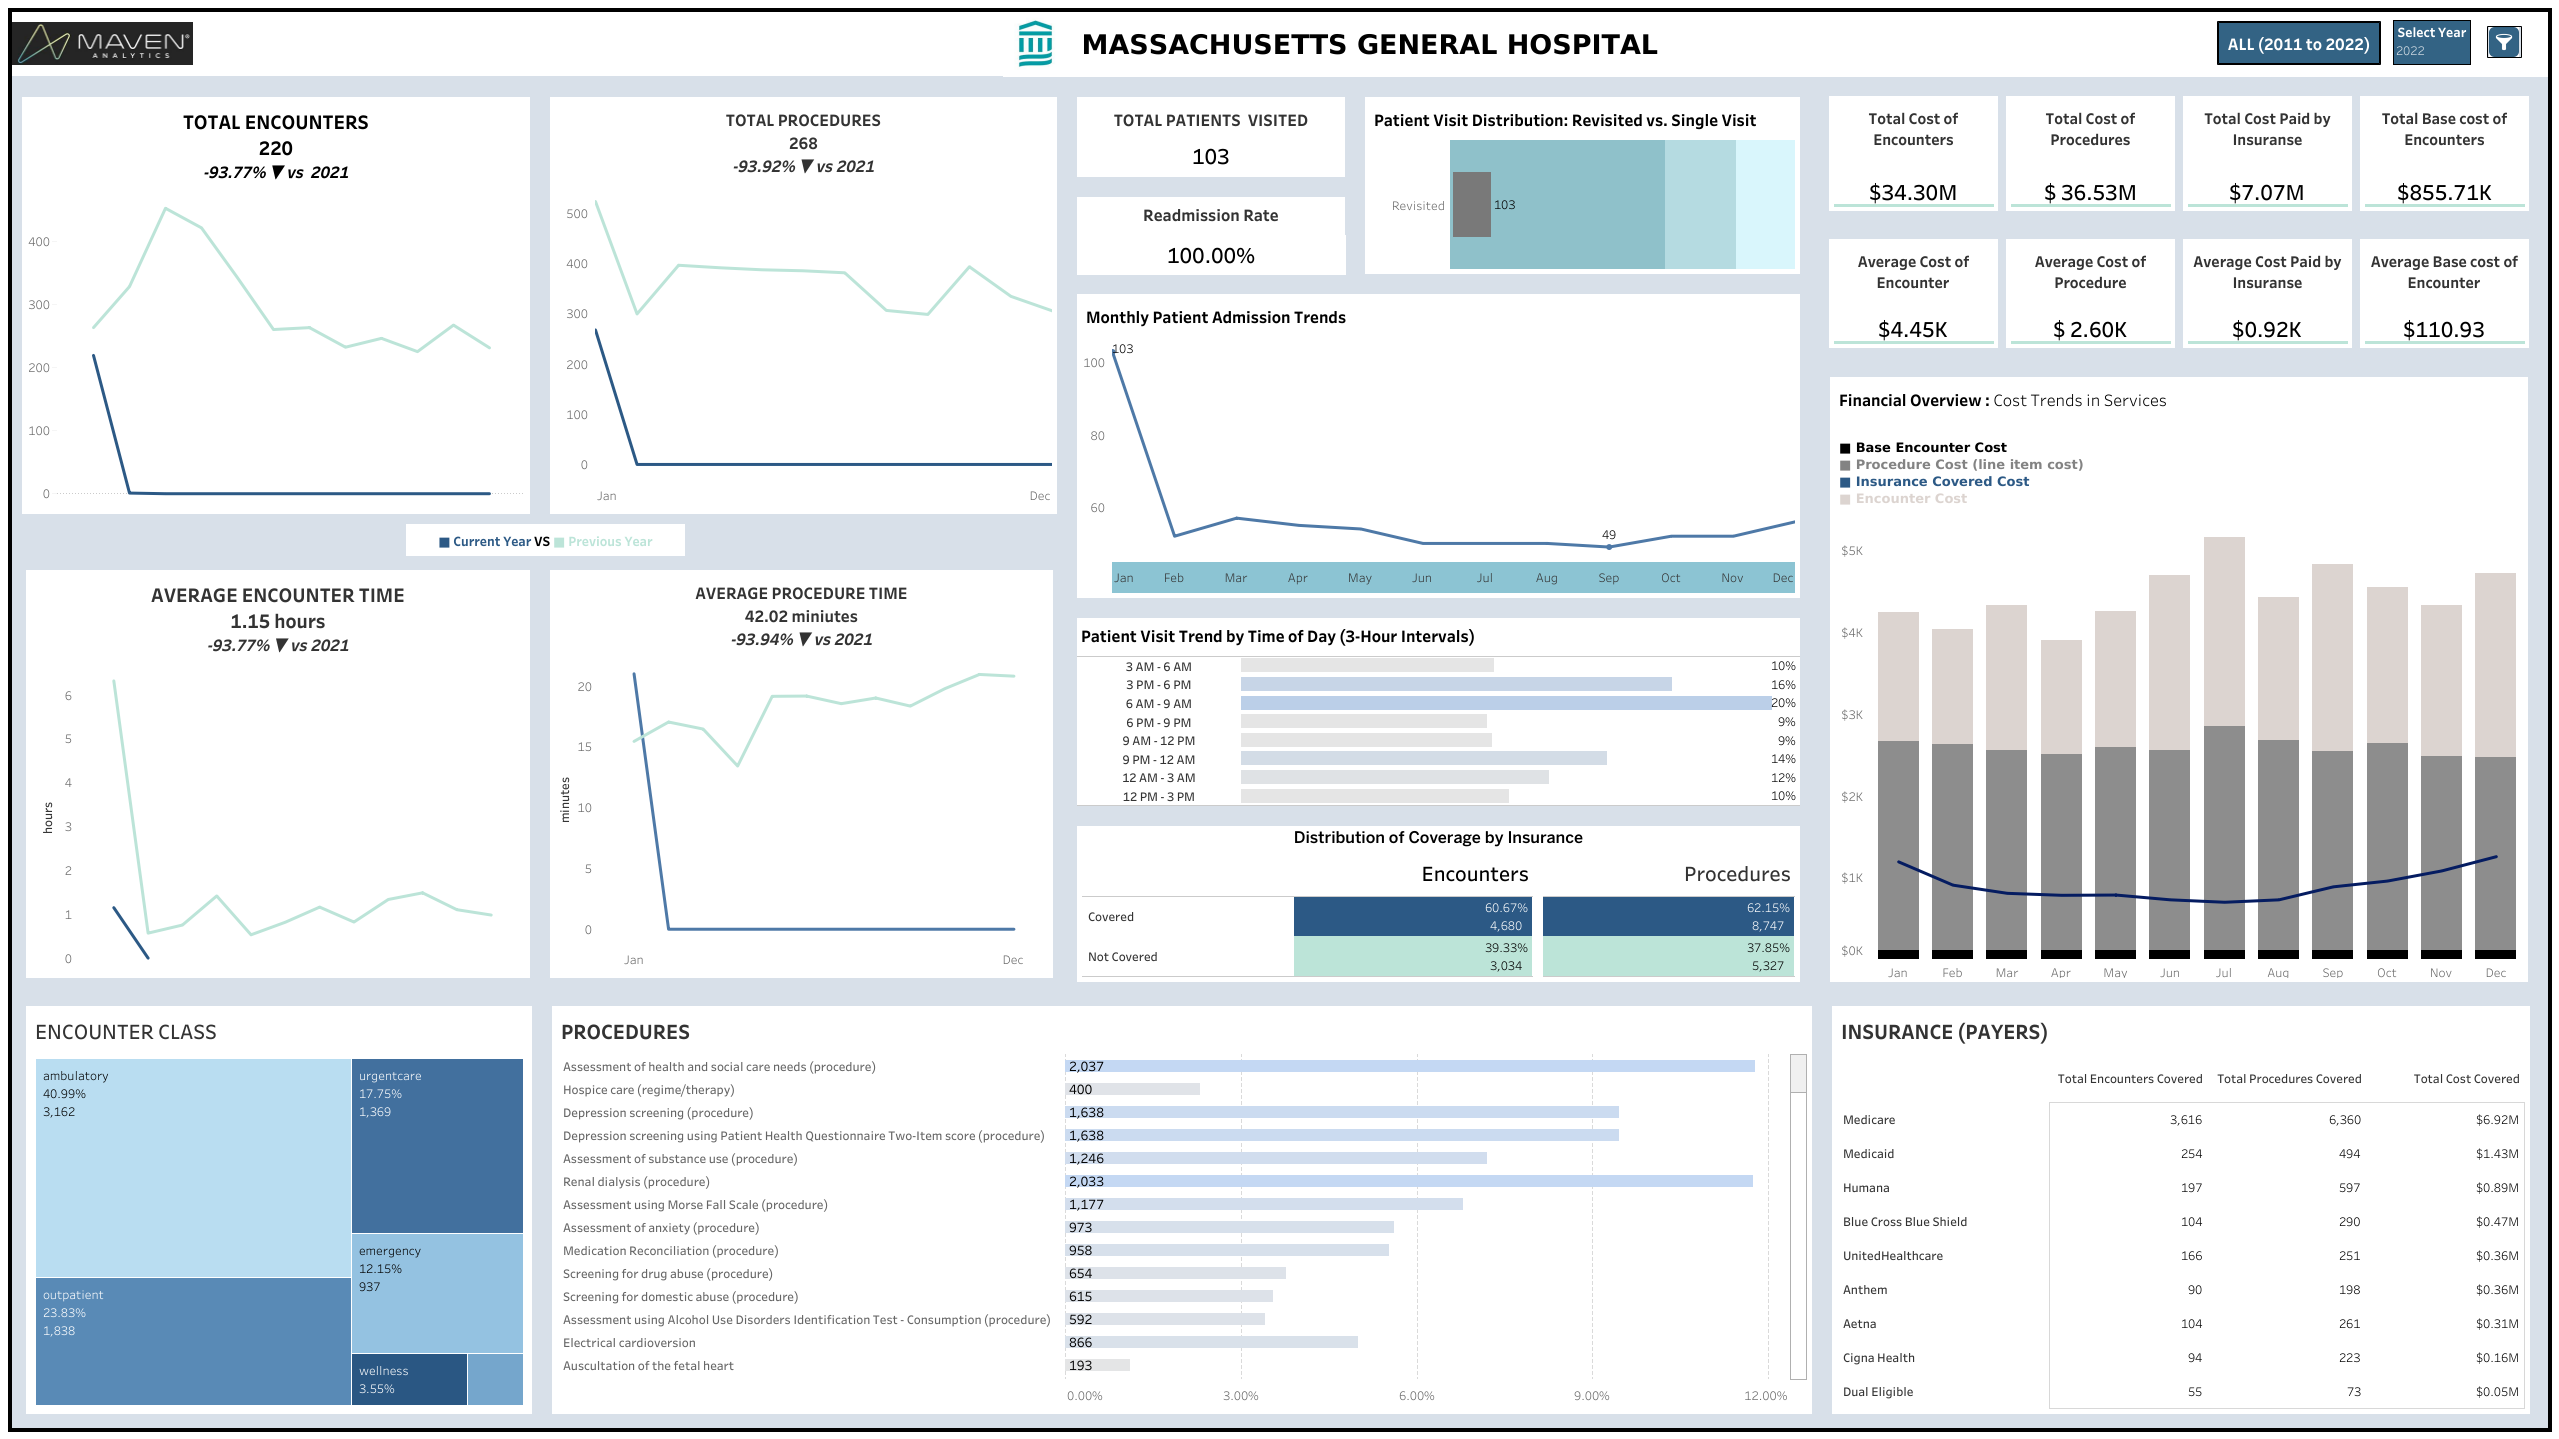

The page's visual inventory and layout, read from the dashboard file:
{"tool":"tableau","page":{"name":"Specific","canvas":[2560,1440],"ordinal":1},"visuals":[{"type":"blank","box":[12,12,991,64.6]},{"type":"image","param":"Image/images.jpeg","box":[12,12,181,64]},{"type":"image","param":"Image/MSG logo.jpeg","box":[1003,12,71,64.6]},{"type":"text","box":[1074,12,1474,64.6]},{"type":"dashboard-object","box":[2451,12,55,44]},{"type":"parameter","param":"[Parameters].[Parameter 1]","box":[2393,20,78,45]},{"type":"dashboard-object","box":[2217,21,164,44]},{"type":"dashboard-object","box":[2487,26,35,32]},{"type":"text","box":[2196,34,275,32]},{"type":"filter","title":"Sheet 9","param":"[federated.0cx04311quj7qx18me6fe1b24300].[none:GENDER:nk]","box":[2196,66,275,64]},{"type":"worksheet","title":"Total Patents","mark":"Automatic","box":[1067,86.6,288,100.4]},{"type":"worksheet","title":"Patients Visit and Revisited","mark":"Automatic","rows":["Calculation_245164739459547144"],"cols":["PATIENT"],"box":[1355,86.6,455.1,197.4]},{"type":"worksheet","title":"Encounter CY vs PY (2)","mark":"Automatic","rows":["Current Year Encounter (copy)_245164739745529871","Calculation_245164739737526285"],"cols":["START"],"box":[12,87,528,437]},{"type":"worksheet","title":"Procedures CY vs PY","mark":"Line","rows":["Current Year Encounter (copy)_245164740176306236","Previous Year Encounter  (copy)_245164740177473597"],"cols":["START (procedures.csv1)"],"box":[540,87,527,437]},{"type":"worksheet","title":"Sheet 9","mark":"Automatic","box":[1825,92,177,123]},{"type":"worksheet","title":"Sheet 12","mark":"Automatic","box":[2002,92,177,123]},{"type":"worksheet","title":"Sheet 10","mark":"Automatic","box":[2179,92,177,123]},{"type":"worksheet","title":"Sheet 11","mark":"Automatic","box":[2356,92,177,123]},{"type":"filter","title":"Sheet 9","param":"[federated.0cx04311quj7qx18me6fe1b24300].[none:ETHNICITY:nk]","box":[2196,130,275,61]},{"type":"worksheet","title":"Readmission","mark":"Automatic","box":[1067,187,288,97]},{"type":"filter","title":"Sheet 9","param":"[federated.0cx04311quj7qx18me6fe1b24300].[none:RACE:nk]","box":[2196,191,275,67]},{"type":"worksheet","title":"Sheet 9(2)","mark":"Automatic","box":[1825,235,177,117]},{"type":"worksheet","title":"Sheet 12 (2)","mark":"Automatic","box":[2002,235,177,117]},{"type":"worksheet","title":"Sheet 10 (2)","mark":"Automatic","box":[2179,235,177,117]},{"type":"worksheet","title":"Sheet 11 (2)","mark":"Automatic","box":[2356,235,177,117]},{"type":"filter","title":"Sheet 29","param":"[federated.0cx04311quj7qx18me6fe1b24300].[none:Calculation_932526636550516742:nk","box":[2196,258,275,74]},{"type":"worksheet","title":"Sheet 29","mark":"Automatic","rows":["PATIENT"],"cols":["START"],"box":[1067,284,743.1,324]},{"type":"worksheet","title":"COST","mark":"Line","rows":["Calculation_245164740211134557"],"cols":["START"],"box":[1810.1,366.9,737.9,624.8]},{"type":"text","box":[396,524,299,32]},{"type":"worksheet","title":"AVg Encounter time CY vs PY","mark":"Automatic","rows":["Current Year Encounter (copy)_245164739838914597","CY avg.  Stay in Hours (copy)_245164739839242278"],"cols":["START"],"box":[16,560,524,428]},{"type":"worksheet","title":"AVg Procedure time CY vs PY","mark":"Line","rows":["CY avg. Encounter time (copy)_245164740102484020","PY avg. Encounter time (copy)_245164740102815797"],"cols":["START"],"box":[540,560,523,428]},{"type":"worksheet","title":"Sheet 47 (3)","mark":"Bar","rows":["Calculation_932526636545425412"],"box":[1067,608,743.1,208]},{"type":"text","box":[1067,816,743.1,32]},{"type":"worksheet","title":"Sheet 15","mark":"Square","rows":["Calculation_245164739319422983"],"box":[1067,848,471,143.7]},{"type":"worksheet","title":"Sheet 14","mark":"Square","rows":["Calculation_245164739319422983"],"box":[1538,848,272.1,143.7]},{"type":"worksheet","title":"Encounter Class","mark":"Automatic","box":[16,995.7,526,428.3]},{"type":"worksheet","title":"Procedures","mark":"Bar","rows":["DESCRIPTION (procedures.csv1)"],"box":[542,995.7,1280,428.3]},{"type":"worksheet","title":"Payers","mark":"Automatic","rows":["NAME"],"box":[1822,995.7,721.9,428.3]}]}

Visuals, with their boxes in screenshot pixels (x1, y1, x2, y2), scaled from the page's 2560x1440 canvas onto the 2559x1439 screenshot:
blank: 12:12:1003:77
image: 12:12:193:76
image: 1003:12:1074:77
text: 1074:12:2547:77
dashboard-object: 2450:12:2505:56
parameter: 2392:20:2470:65
dashboard-object: 2216:21:2380:65
dashboard-object: 2486:26:2521:58
text: 2195:34:2470:66
"Sheet 9" filter: 2195:66:2470:130
"Total Patents" worksheet: 1067:87:1354:187
"Patients Visit and Revisited" worksheet: 1354:87:1809:284
"Encounter CY vs PY (2)" worksheet: 12:87:540:524
"Procedures CY vs PY" worksheet (Line marks): 540:87:1067:524
"Sheet 9" worksheet: 1824:92:2001:215
"Sheet 12" worksheet: 2001:92:2178:215
"Sheet 10" worksheet: 2178:92:2355:215
"Sheet 11" worksheet: 2355:92:2532:215
"Sheet 9" filter: 2195:130:2470:191
"Readmission" worksheet: 1067:187:1354:284
"Sheet 9" filter: 2195:191:2470:258
"Sheet 9(2)" worksheet: 1824:235:2001:352
"Sheet 12 (2)" worksheet: 2001:235:2178:352
"Sheet 10 (2)" worksheet: 2178:235:2355:352
"Sheet 11 (2)" worksheet: 2355:235:2532:352
"Sheet 29" filter: 2195:258:2470:332
"Sheet 29" worksheet: 1067:284:1809:608
"COST" worksheet (Line marks): 1809:367:2547:991
text: 396:524:695:556
"AVg Encounter time CY vs PY" worksheet: 16:560:540:987
"AVg Procedure time CY vs PY" worksheet (Line marks): 540:560:1063:987
"Sheet 47 (3)" worksheet (Bar marks): 1067:608:1809:815
text: 1067:815:1809:847
"Sheet 15" worksheet (Square marks): 1067:847:1537:991
"Sheet 14" worksheet (Square marks): 1537:847:1809:991
"Encounter Class" worksheet: 16:995:542:1423
"Procedures" worksheet (Bar marks): 542:995:1821:1423
"Payers" worksheet: 1821:995:2543:1423
